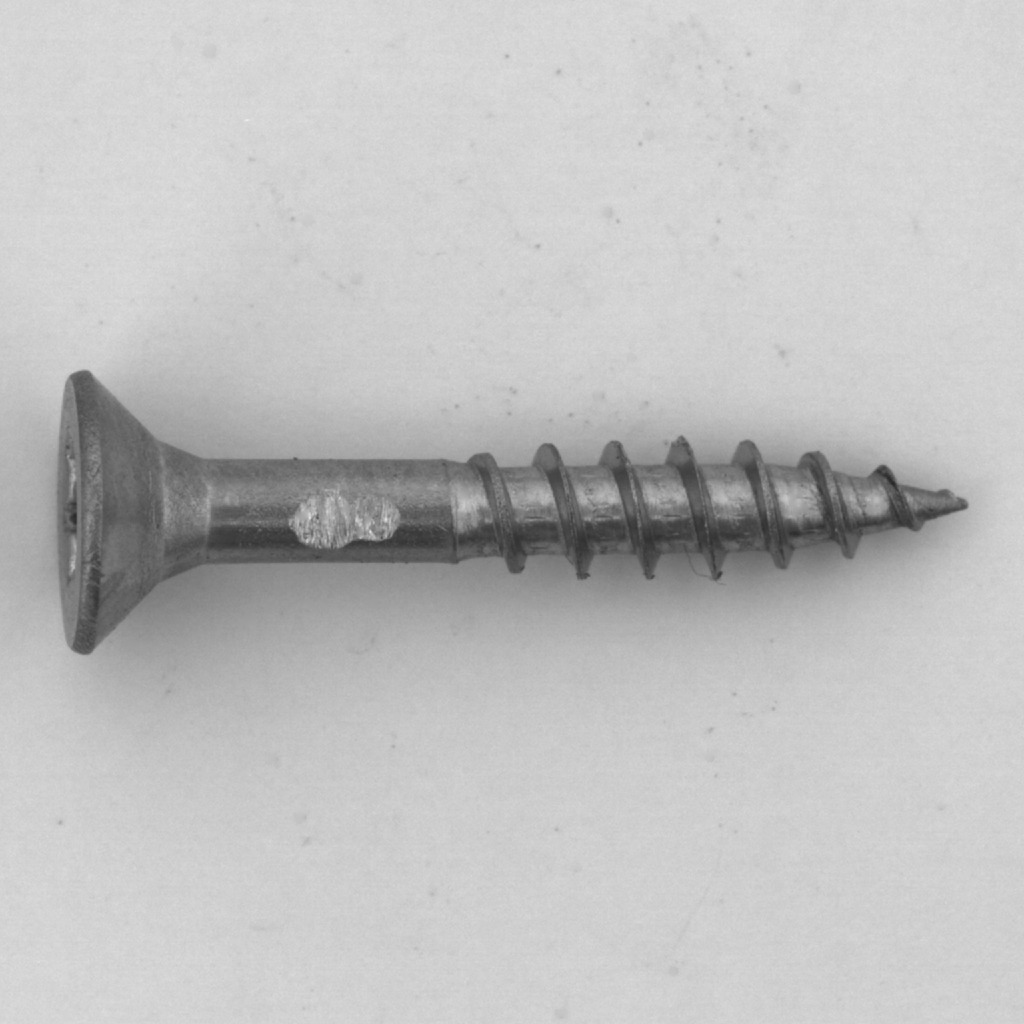scratch_neck: (234, 413, 466, 628)
